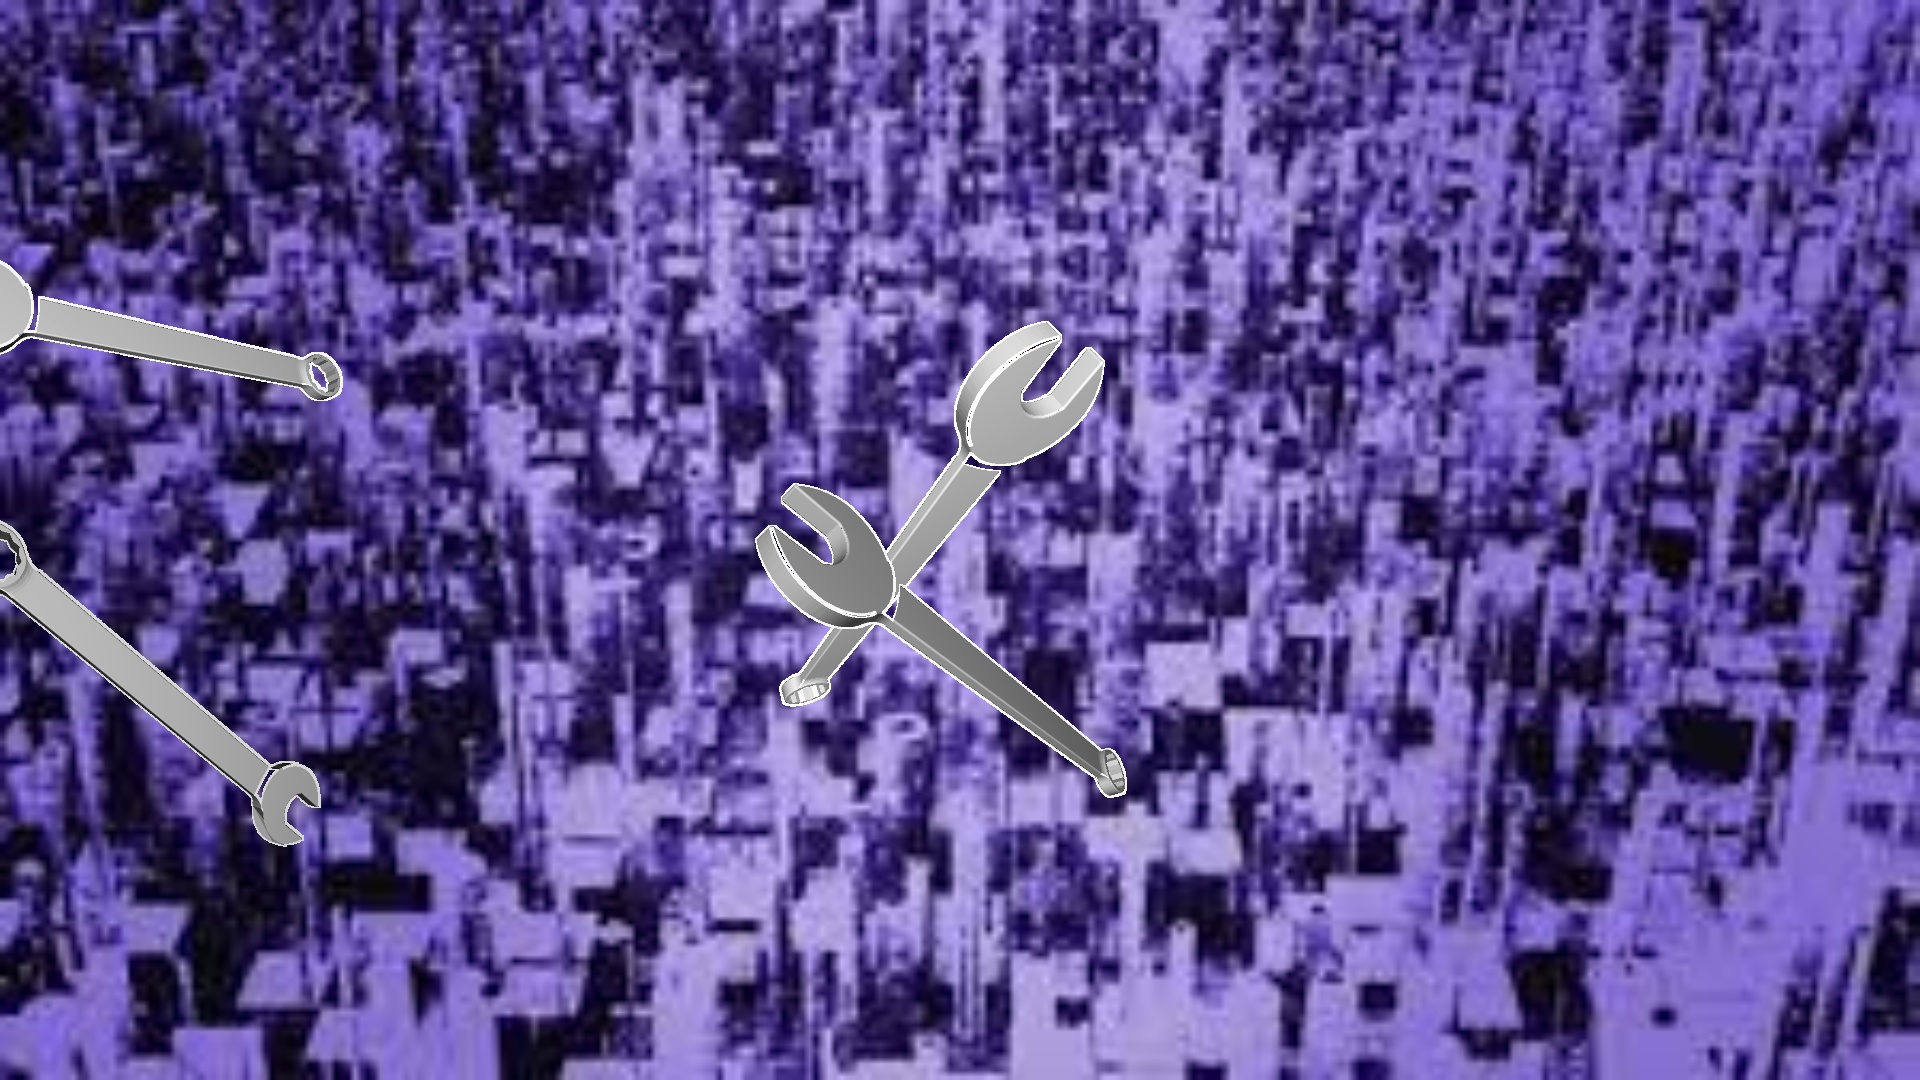Mixed Key: (779, 320, 1104, 705), (756, 483, 1126, 796), (0, 520, 320, 847), (0, 260, 342, 400)
